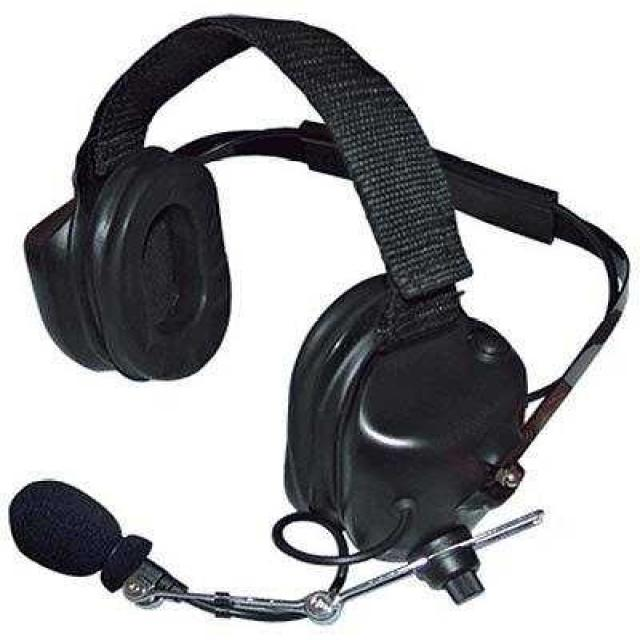microphone: (9, 480, 160, 596)
